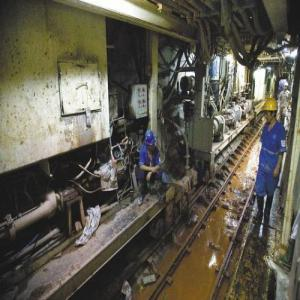blue: (145, 128, 158, 153)
yellow: (263, 97, 280, 126)
